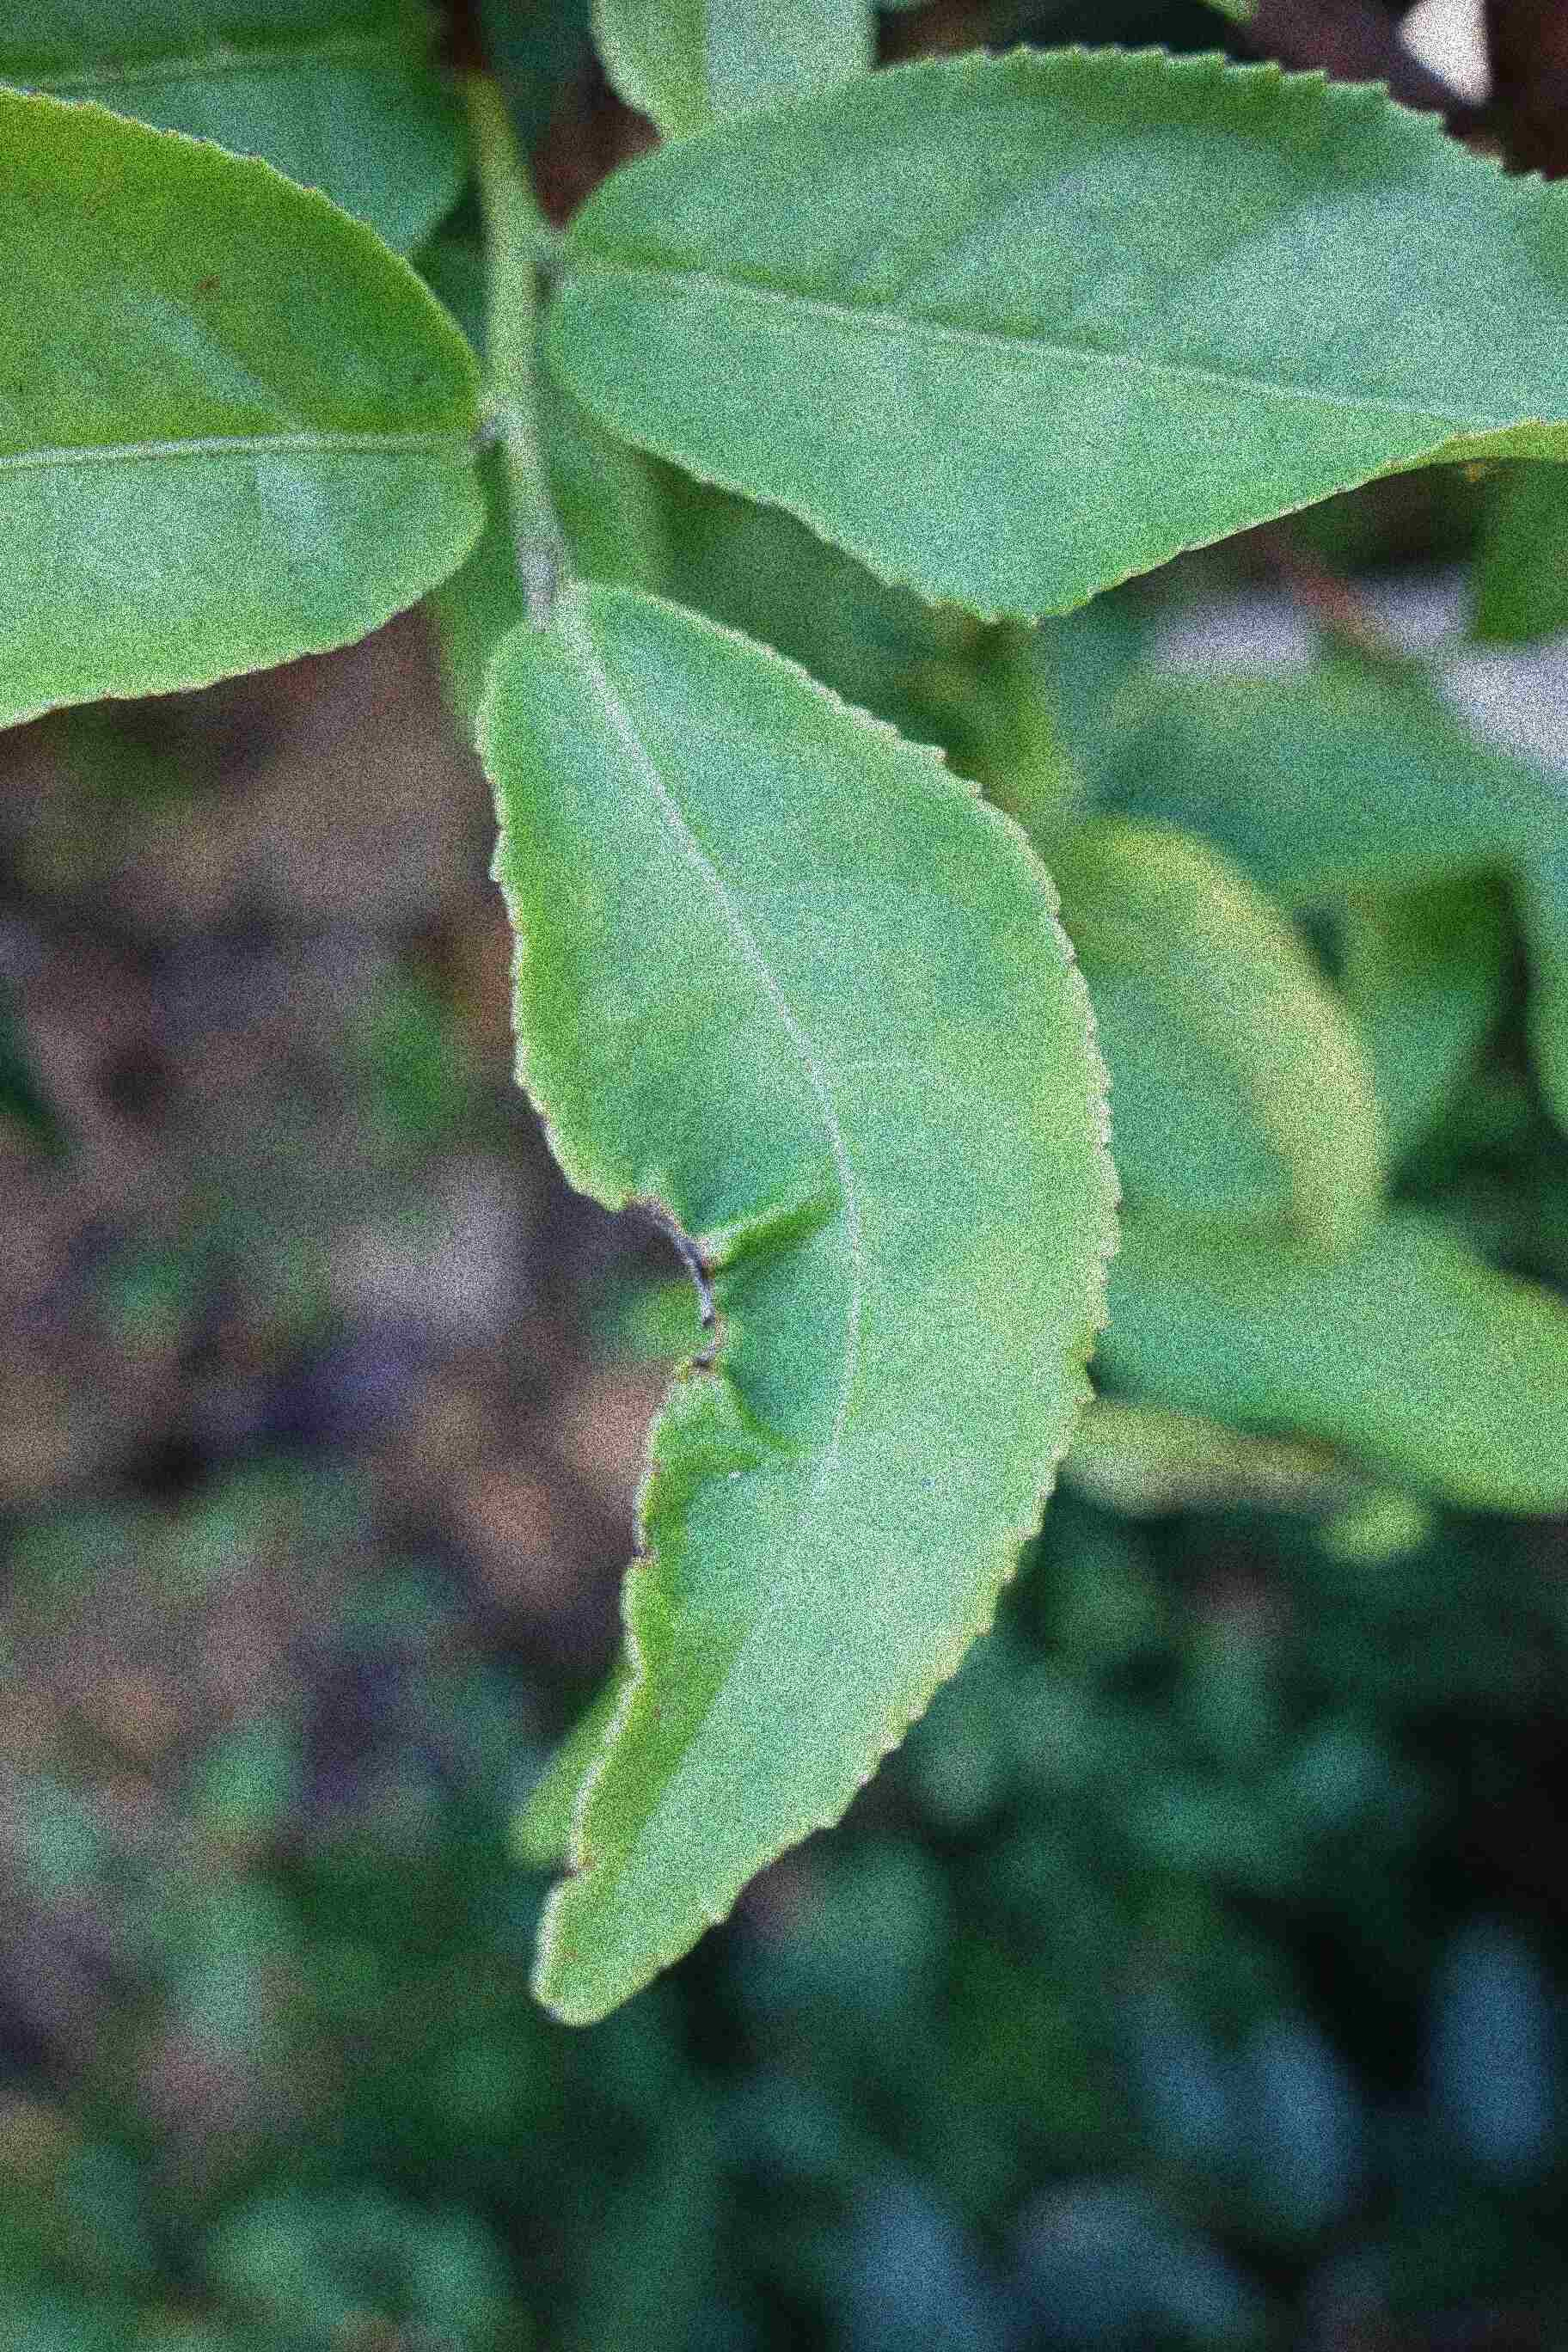chihuo_high: (451, 583, 1127, 2032)
